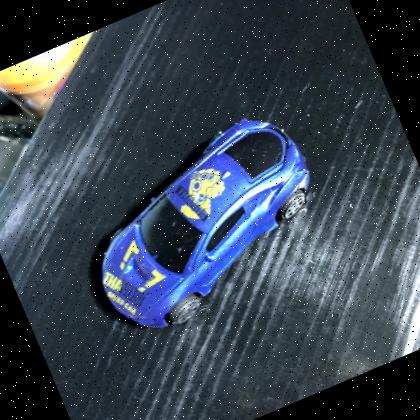Car: (57, 96, 352, 354)
